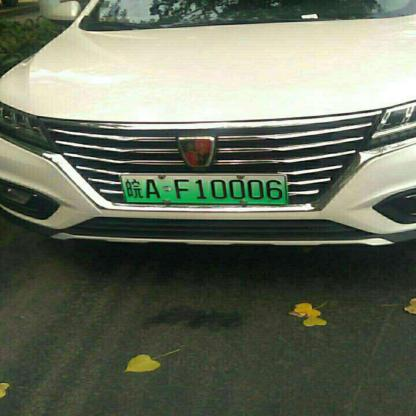lp: (121, 174, 285, 203)
